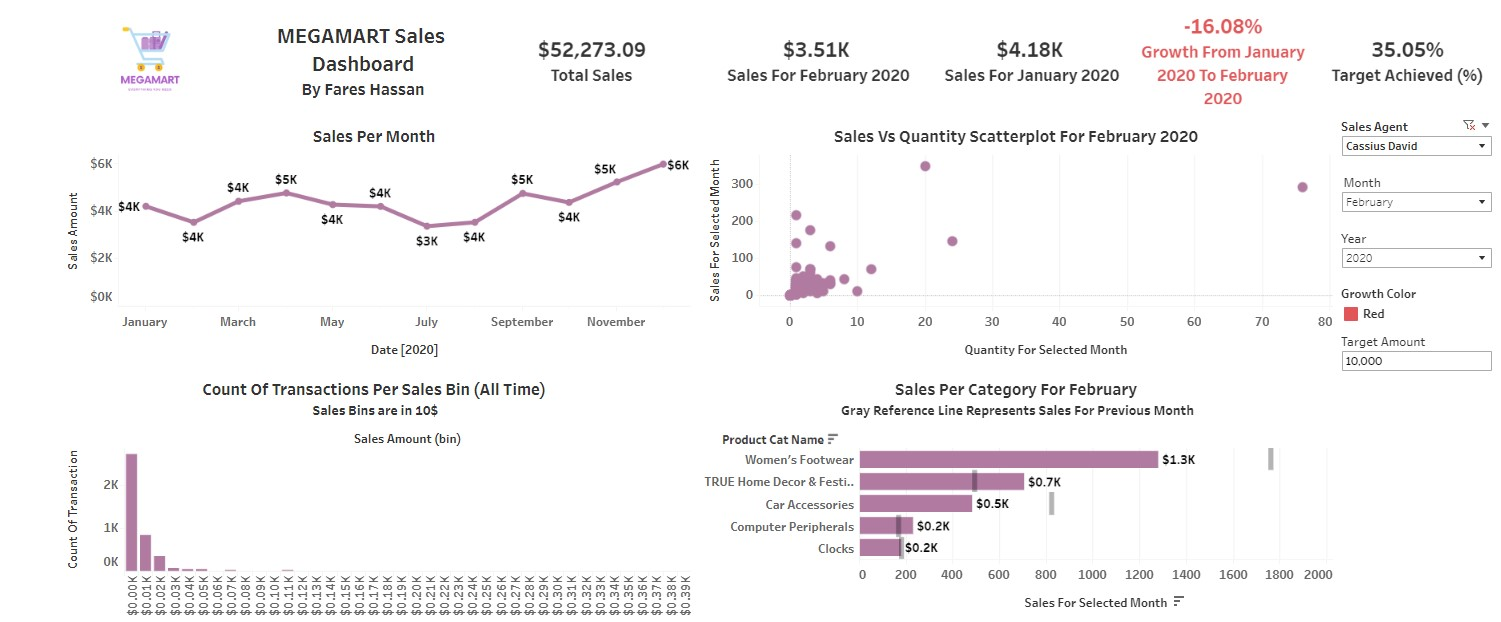

The dashboard page shown, as its layout file describes it:
{"tool":"tableau","page":{"name":"MEGAMART Sales Dashboard","canvas":[1000,1000],"units":"permille","ordinal":0},"visuals":[{"type":"image","param":"C:/Users/Fares A. Muhammad/Desktop/Tableau Projects/MegaMart/MEGAMARTLOGO.png","box":[5,9.4,131,170.3]},{"type":"text","box":[136,9.4,163.3,170.3]},{"type":"worksheet","title":"Total Sales","mark":"Automatic","box":[299.3,9.4,150.9,170.3]},{"type":"worksheet","title":"Sales For Selected Month","mark":"Automatic","box":[450.3,9.4,156.5,170.3]},{"type":"worksheet","title":"Sales For Previous Month","mark":"Automatic","box":[606.8,9.4,136,170.3]},{"type":"worksheet","title":"Growth","mark":"Automatic","box":[742.8,9.4,129.8,170.3]},{"type":"worksheet","title":"Target Achieved","mark":"Automatic","box":[872.6,9.4,122.4,170.3]},{"type":"worksheet","title":"Sales Per Month","mark":"Automatic","rows":["Sales_Amount"],"cols":["Date"],"box":[5,179.7,445.3,405.4]},{"type":"worksheet","title":"Sales Vs Quantity Scatterplot","mark":"Automatic","rows":["Calculation_582090318180536322"],"cols":["Sales For Selected Month (copy)_582090318210113541"],"box":[450.3,179.7,445.4,405.4]},{"type":"filter","title":"Sales Per Month","param":"[federated.01v8ky80g754er15i0jsi1hkeawl].[none:sales_person_id:nk]","box":[895.6,179.7,99.4,71.7]},{"type":"parameter","param":"[Parameters].[Parameter 1]","box":[895.6,251.4,99.4,65.8]},{"type":"parameter","param":"[Parameters].[Parameter 2]","box":[895.6,317.2,99.4,65.8]},{"type":"legend","title":"Growth","param":"[federated.01v8ky80g754er15i0jsi1hkeawl].[usr:Calculation_582090318260350984:nk]","box":[895.6,383,99.4,59.9]},{"type":"parameter","param":"[Parameters].[Parameter 3]","box":[895.6,442.9,99.4,65.8]},{"type":"worksheet","title":"Sales Bin Chart","mark":"Automatic","rows":["Calculation_582090318253924358"],"cols":["Sales Amount (bin)"],"box":[5,585.1,445.3,405.4]},{"type":"worksheet","title":"Category Month Comparsion","mark":"Automatic","rows":["product_cat_name"],"cols":["Calculation_582090318180536322"],"box":[450.3,585.1,445.4,405.4]}]}

Visuals, with their boxes on the dashboard's canvas, which has no fixed pixel size, in thousandths of its width and height (x1, y1, x2, y2). These are canvas units, not pixel positions in the 1501x622 screenshot, which may show the page scaled, cropped or inside an application window:
image: crop(5, 9, 136, 180)
text: crop(136, 9, 299, 180)
"Total Sales" worksheet: crop(299, 9, 450, 180)
"Sales For Selected Month" worksheet: crop(450, 9, 607, 180)
"Sales For Previous Month" worksheet: crop(607, 9, 743, 180)
"Growth" worksheet: crop(743, 9, 873, 180)
"Target Achieved" worksheet: crop(873, 9, 995, 180)
"Sales Per Month" worksheet: crop(5, 180, 450, 585)
"Sales Vs Quantity Scatterplot" worksheet: crop(450, 180, 896, 585)
"Sales Per Month" filter: crop(896, 180, 995, 251)
parameter: crop(896, 251, 995, 317)
parameter: crop(896, 317, 995, 383)
"Growth" legend: crop(896, 383, 995, 443)
parameter: crop(896, 443, 995, 509)
"Sales Bin Chart" worksheet: crop(5, 585, 450, 990)
"Category Month Comparsion" worksheet: crop(450, 585, 896, 990)
